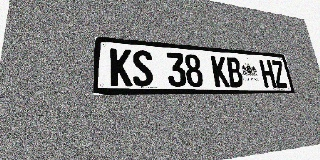3: (166, 52, 187, 87)
8: (184, 54, 204, 87)
B: (225, 57, 244, 87)
H: (259, 59, 277, 87)
K: (110, 48, 132, 86), (211, 56, 230, 87)
S: (132, 50, 154, 87)
Z: (271, 60, 288, 88)
